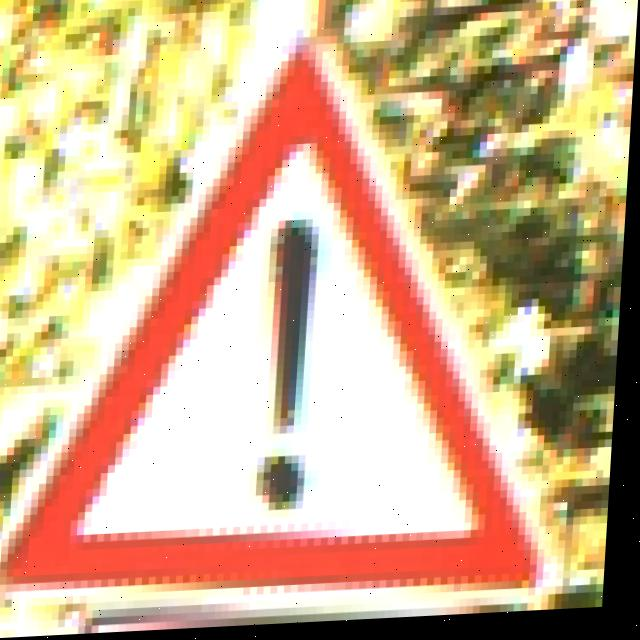warning: (16, 37, 588, 637)
